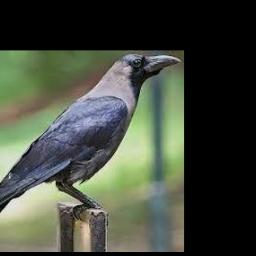Crow: (0, 54, 182, 248)
